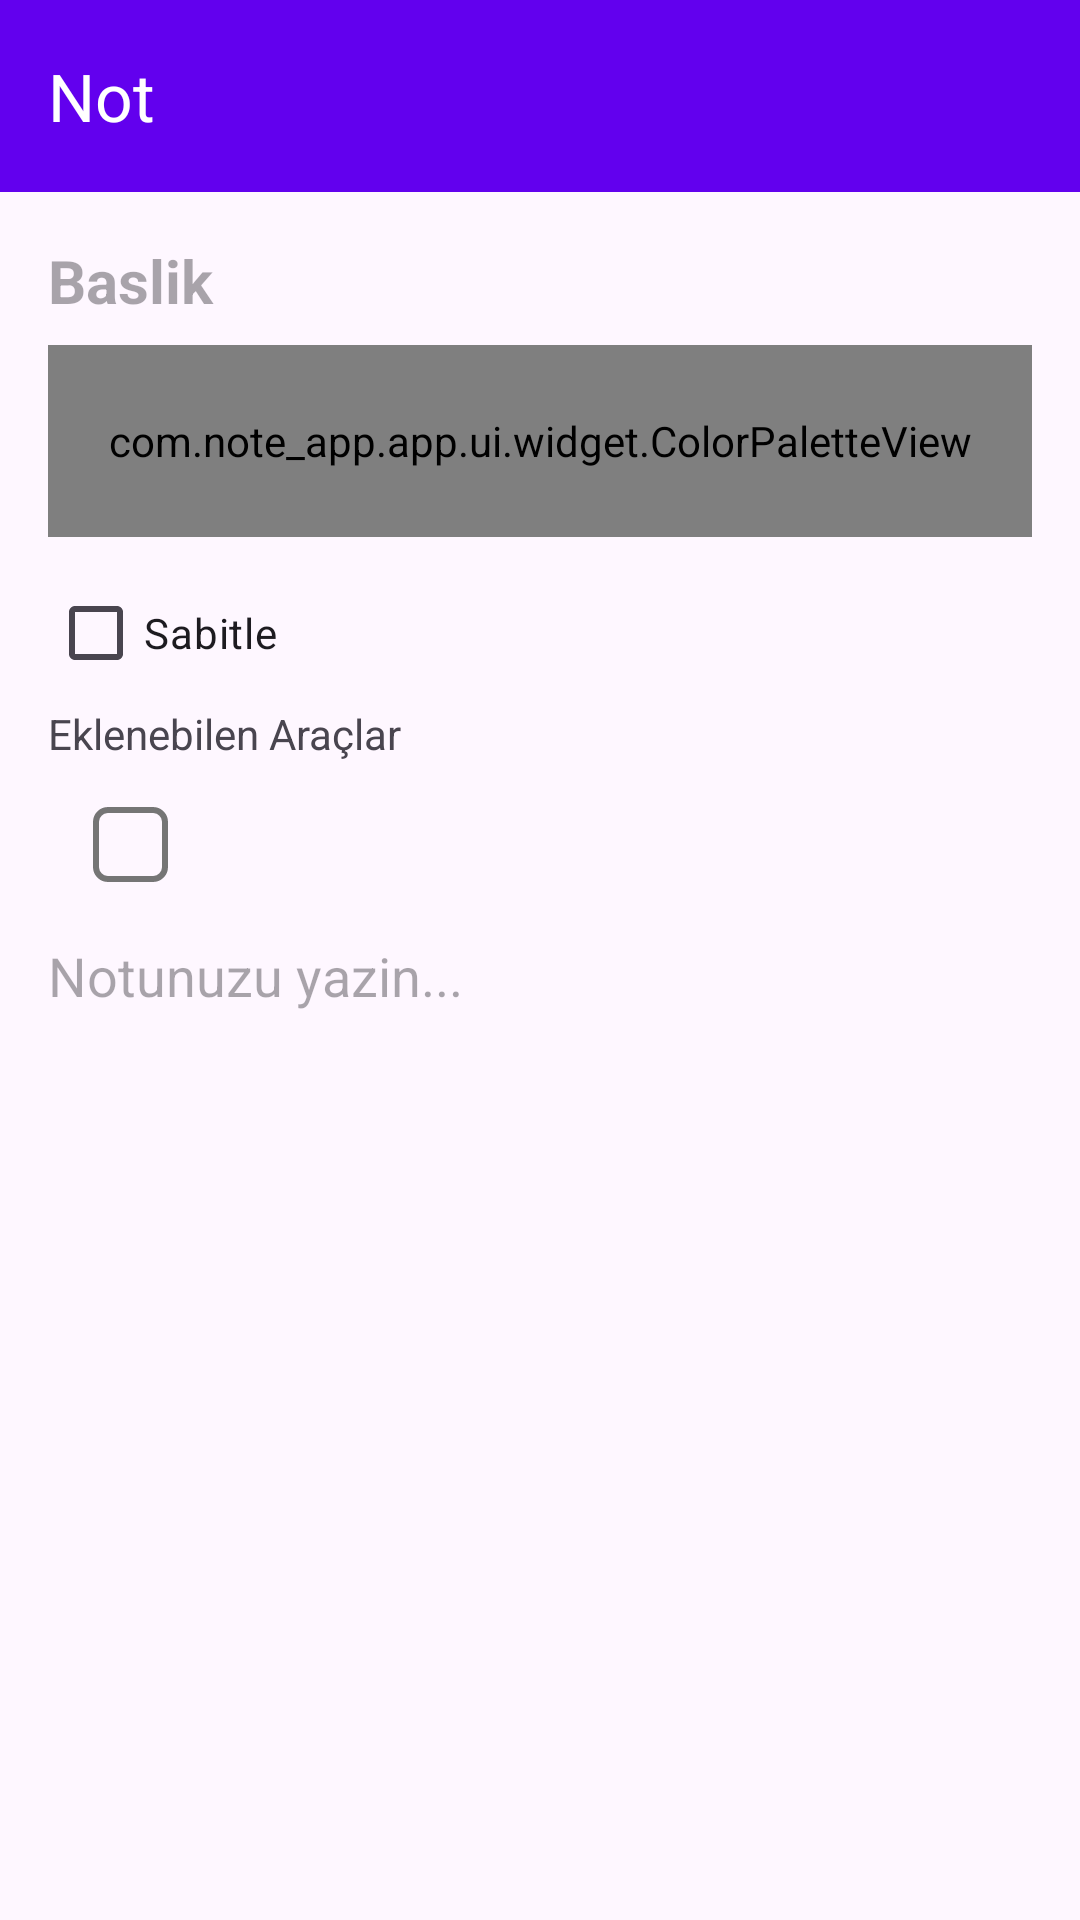

Point at icon controls on the screen. Image size 1080 x 1920, points as [x,y].
unchecked: [130,844]
